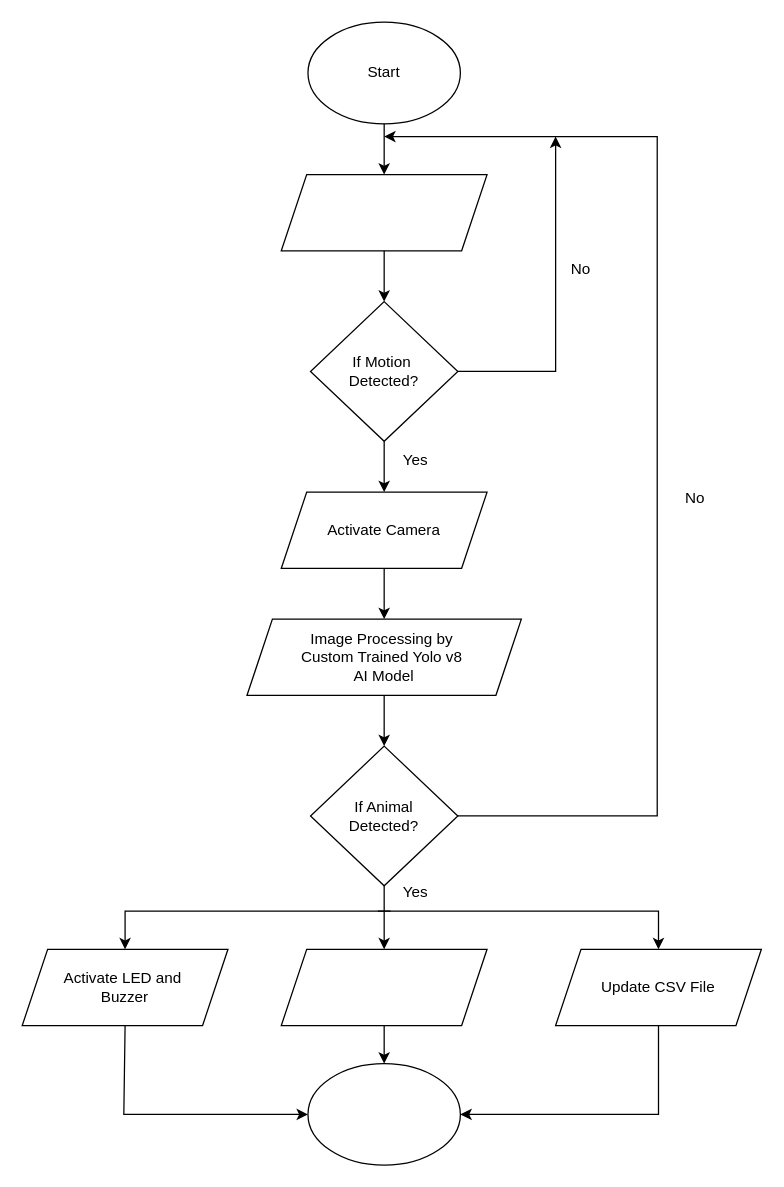
The diagram is 784 pixels wide and 1187 high, and some of its shapes have lost their labels. The shapes that lost their labels are listed below. From the top down, each one's centre as x and y in pixels, then its label:
At (x=383, y=212): "Initialize PIR Motion Sensor".
At (x=383, y=987): "Send Email Notification".
At (x=383, y=1113): "End".
